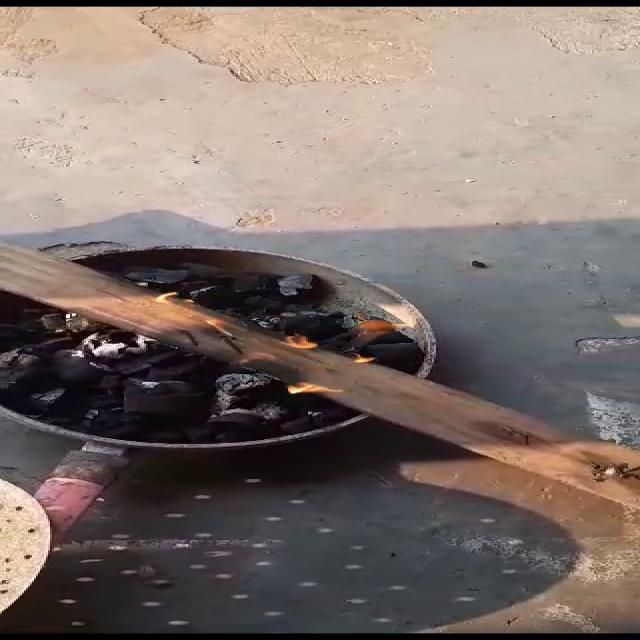Fire: (141, 281, 415, 411)
